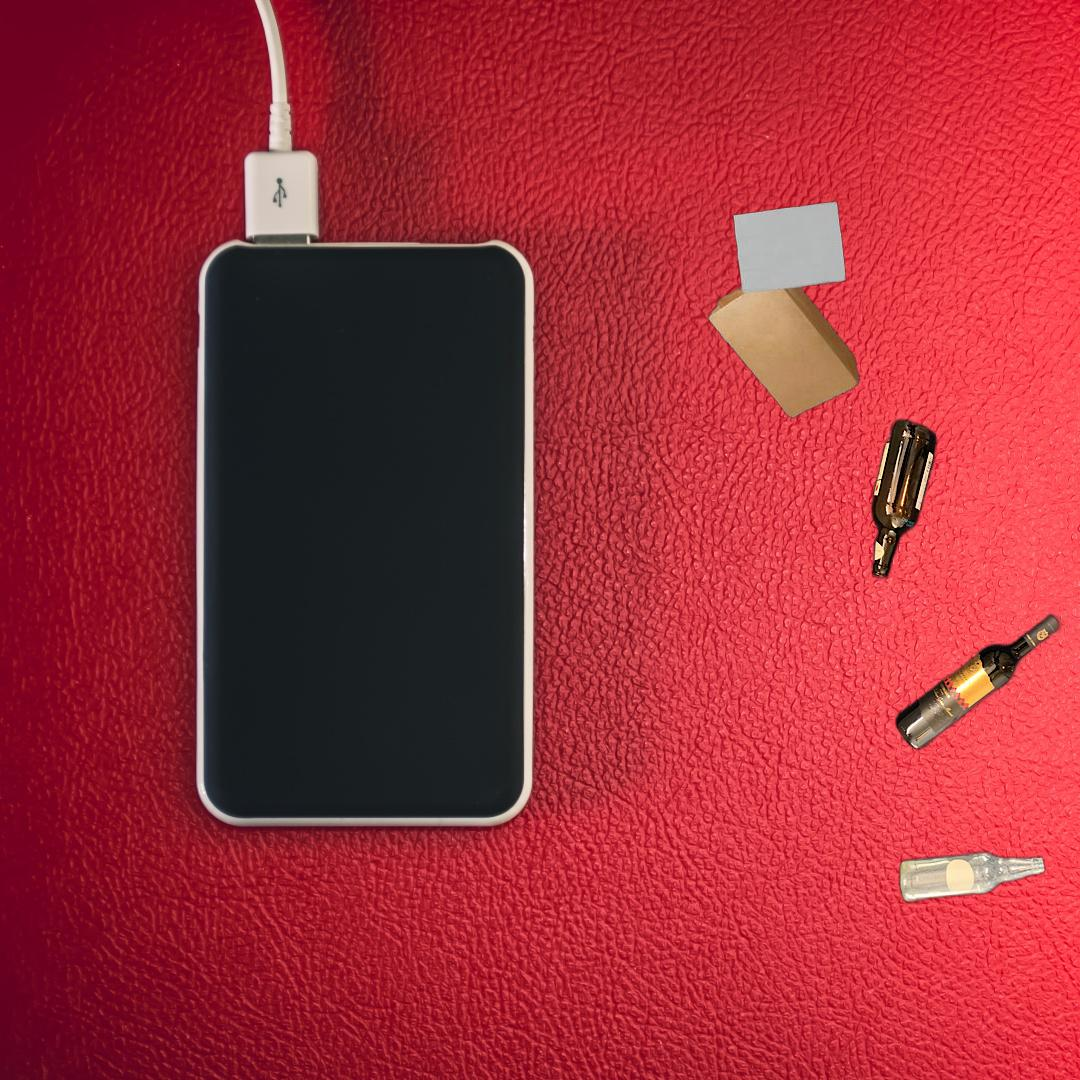glass: (868, 413, 1071, 909)
paper-bag: (704, 197, 863, 421)
